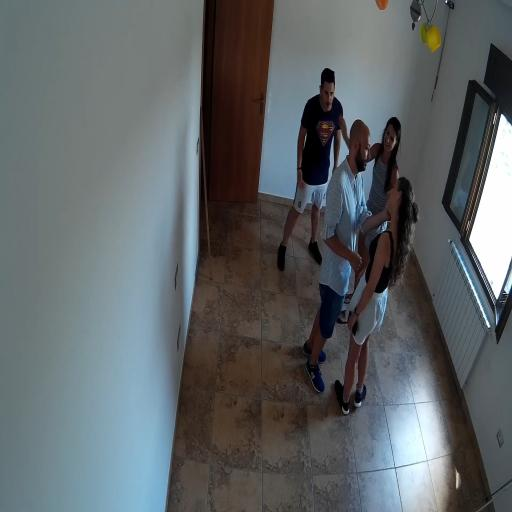nao-violencia: (300, 114, 420, 421), (279, 38, 405, 278)
